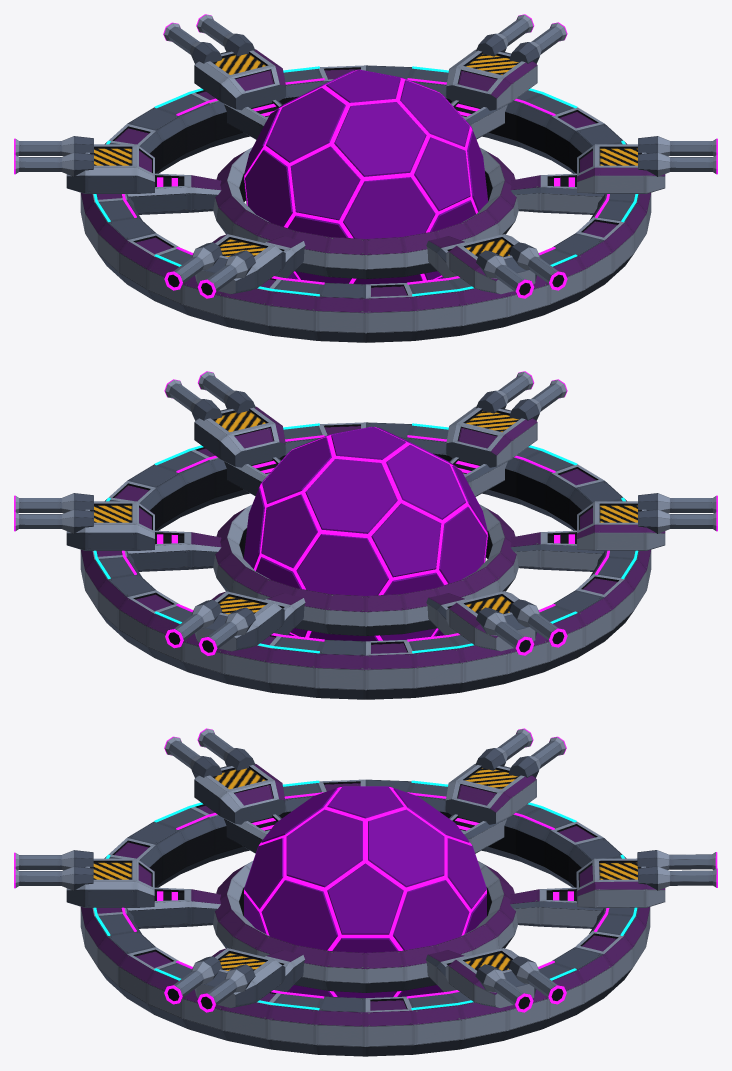
The model's file is nucleo.glb.
The picture shows the model from 3 angles, top to bottom: view 1: azimuth 30°, elevation 25°; view 2: azimuth 150°, elevation 25°; view 3: azimuth 270°, elevation 25°; orthographic projection.
Visible parts, largest first — view 1: CORE_Hull, CORE_Energy_Panels, TURRET_02_Hull.001, TURRET_06_Hull, TURRET_02_Hull, TURRET_05_Hull, TURRET_04_Hull, TURRET_03_Hull, CORE_Energy_Glow, CORE_Cyan_Emitters, CORE_Violet_Emitters, CORE_Arm_Emitters; view 2: CORE_Hull, CORE_Energy_Panels, TURRET_04_Hull, TURRET_05_Hull, TURRET_06_Hull, TURRET_03_Hull, TURRET_02_Hull, TURRET_02_Hull.001, CORE_Energy_Glow, CORE_Cyan_Emitters, CORE_Violet_Emitters, CORE_Arm_Emitters; view 3: CORE_Hull, CORE_Energy_Panels, TURRET_02_Hull.001, TURRET_02_Hull, TURRET_03_Hull, TURRET_04_Hull, TURRET_06_Hull, TURRET_05_Hull, CORE_Energy_Glow, CORE_Cyan_Emitters, CORE_Violet_Emitters, CORE_Arm_Emitters.
Boxes of the visible parts, bbox=[...] form: CORE_Hull: bbox=[80, 65, 651, 342]; CORE_Energy_Panels: bbox=[243, 69, 488, 284]; TURRET_02_Hull.001: bbox=[163, 14, 285, 110]; TURRET_06_Hull: bbox=[446, 14, 567, 110]; TURRET_02_Hull: bbox=[14, 136, 154, 193]; TURRET_05_Hull: bbox=[577, 136, 717, 193]; TURRET_04_Hull: bbox=[446, 234, 567, 298]; TURRET_03_Hull: bbox=[164, 234, 285, 298]; CORE_Energy_Glow: bbox=[244, 70, 477, 283]; CORE_Cyan_Emitters: bbox=[93, 66, 638, 296]; CORE_Violet_Emitters: bbox=[122, 78, 609, 284]; CORE_Arm_Emitters: bbox=[157, 103, 574, 186]; CORE_Hull: bbox=[80, 422, 651, 699]; CORE_Energy_Panels: bbox=[243, 426, 488, 641]; TURRET_04_Hull: bbox=[446, 371, 567, 467]; TURRET_05_Hull: bbox=[164, 371, 285, 467]; TURRET_06_Hull: bbox=[14, 493, 154, 550]; TURRET_03_Hull: bbox=[577, 493, 717, 550]; TURRET_02_Hull: bbox=[446, 591, 567, 655]; TURRET_02_Hull.001: bbox=[165, 591, 284, 655]; CORE_Energy_Glow: bbox=[254, 427, 487, 640]; CORE_Cyan_Emitters: bbox=[93, 423, 638, 653]; CORE_Violet_Emitters: bbox=[122, 435, 609, 641]; CORE_Arm_Emitters: bbox=[157, 460, 574, 543]; CORE_Hull: bbox=[80, 779, 650, 1056]; CORE_Energy_Panels: bbox=[244, 786, 486, 998]; TURRET_02_Hull.001: bbox=[576, 850, 717, 908]; TURRET_02_Hull: bbox=[445, 728, 566, 824]; TURRET_03_Hull: bbox=[164, 728, 285, 824]; TURRET_04_Hull: bbox=[14, 850, 154, 907]; TURRET_06_Hull: bbox=[445, 948, 566, 1012]; TURRET_05_Hull: bbox=[164, 948, 285, 1012]; CORE_Energy_Glow: bbox=[244, 787, 486, 996]; CORE_Cyan_Emitters: bbox=[93, 780, 637, 1010]; CORE_Violet_Emitters: bbox=[121, 792, 609, 998]; CORE_Arm_Emitters: bbox=[157, 818, 573, 900].
Bounding box in the file's own units: 6.81 × 2.45 × 7.51.
Materials: 5 (1 with a texture image).
